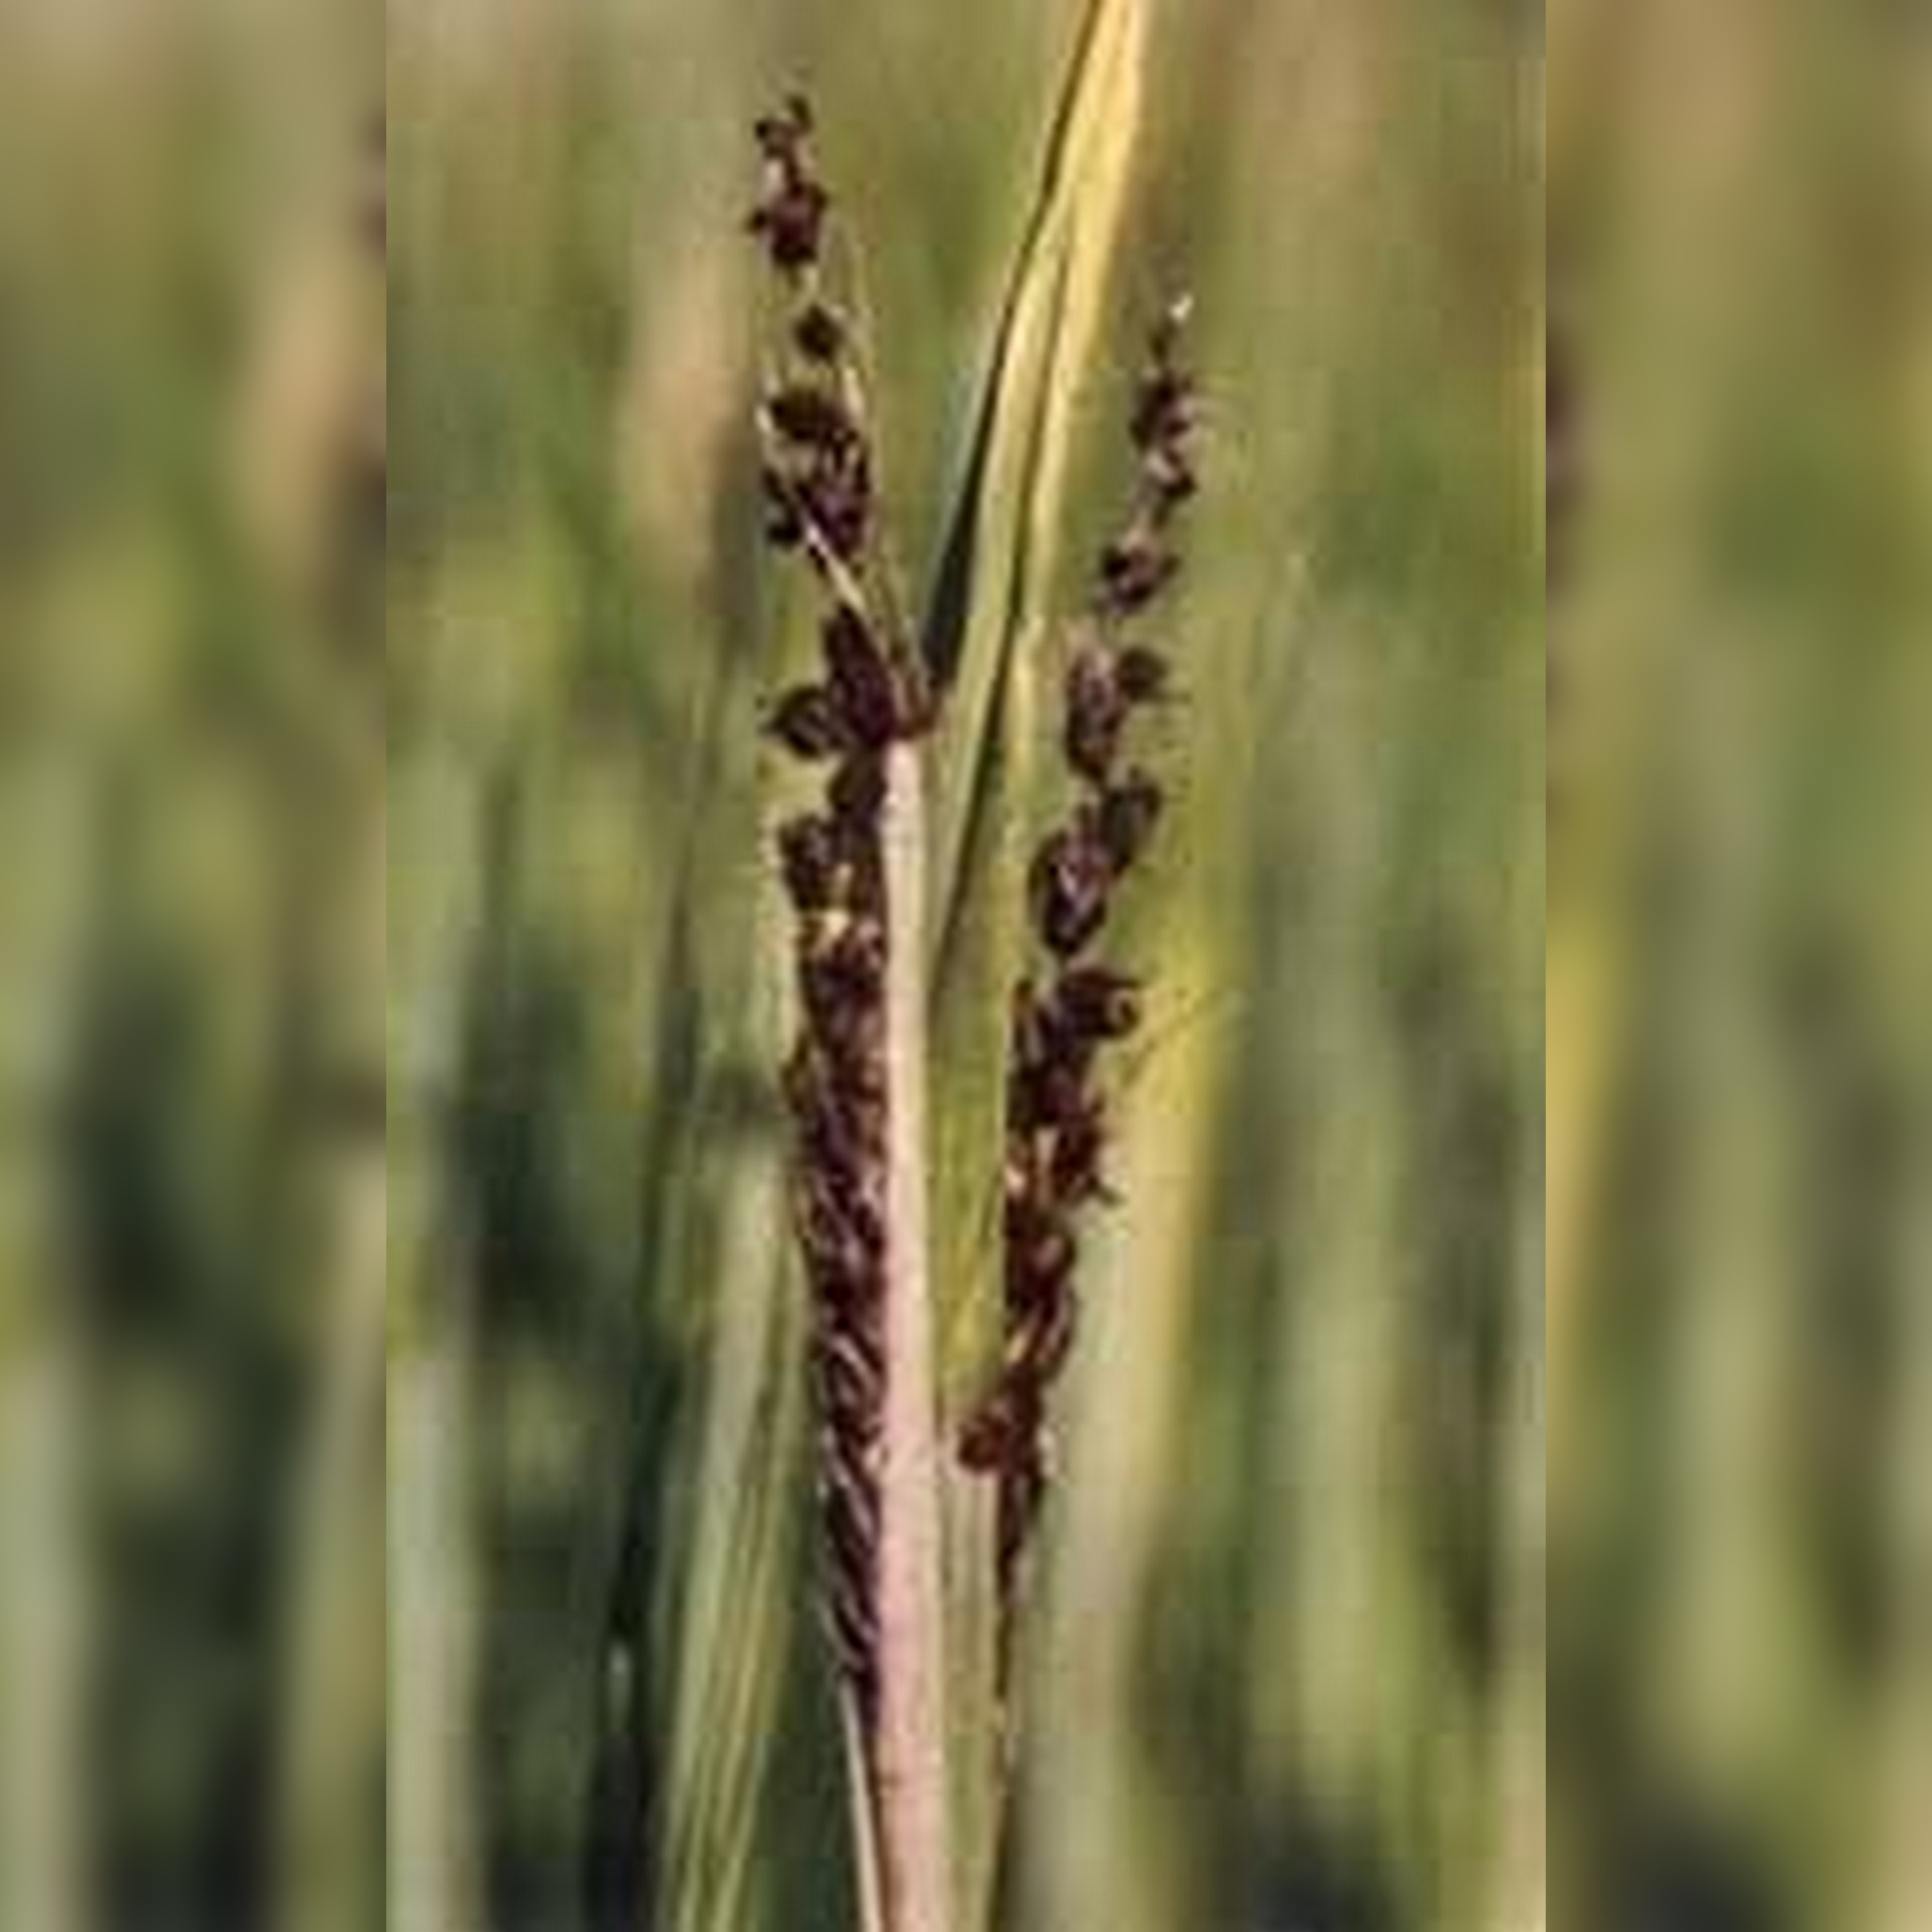Wheat Loose Smut: (678, 104, 1231, 1645)
